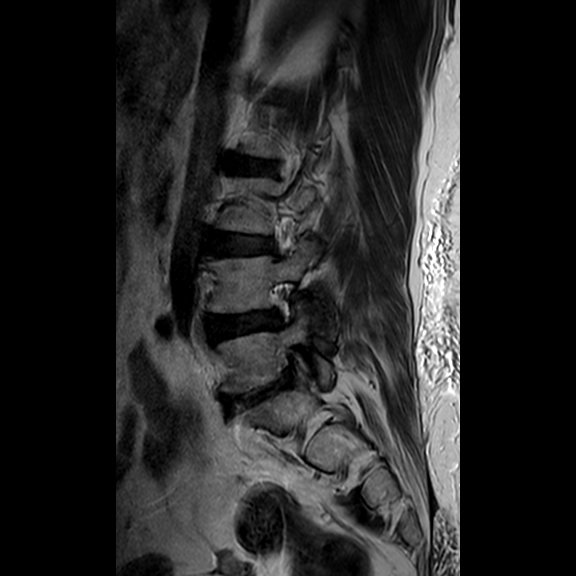RFS0: (260, 270, 304, 335)
